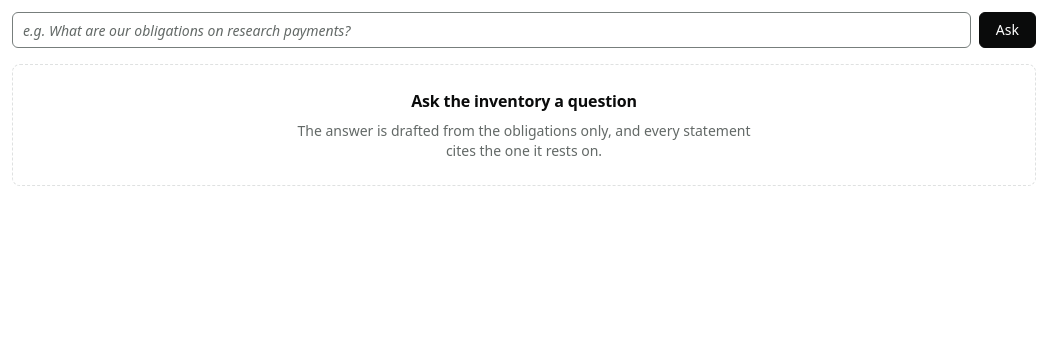
AskPanel › sends the question with the carried "as of", and nothing else
In the search field named "Question": point(491, 30) [12, 12, 971, 48], type "What are our obligations on research payments?"
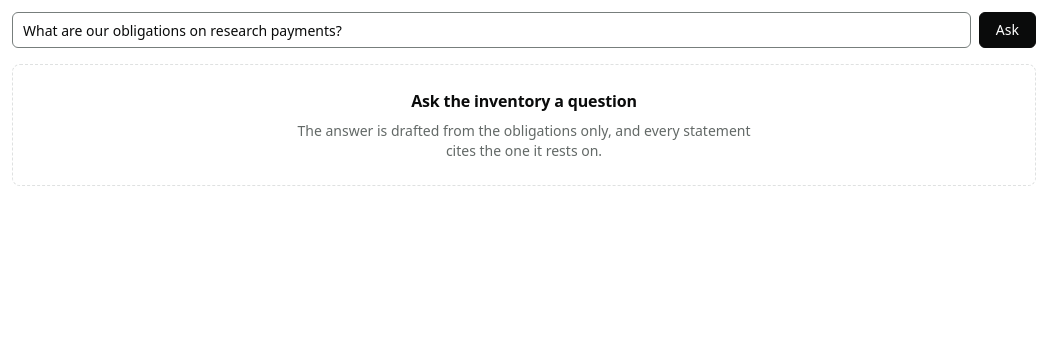
Click the button "Ask": point(1007, 30) [979, 12, 1036, 48]
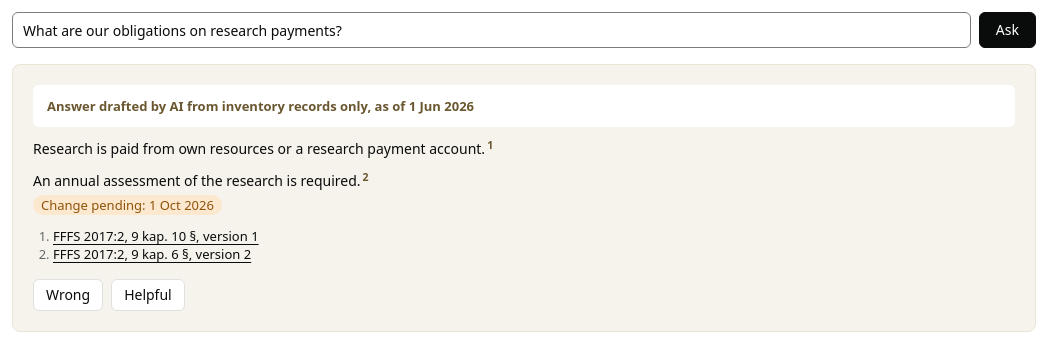
Expected: the text "Research is paid from own resources or a research payment account." is shown, [33, 139, 485, 158]
